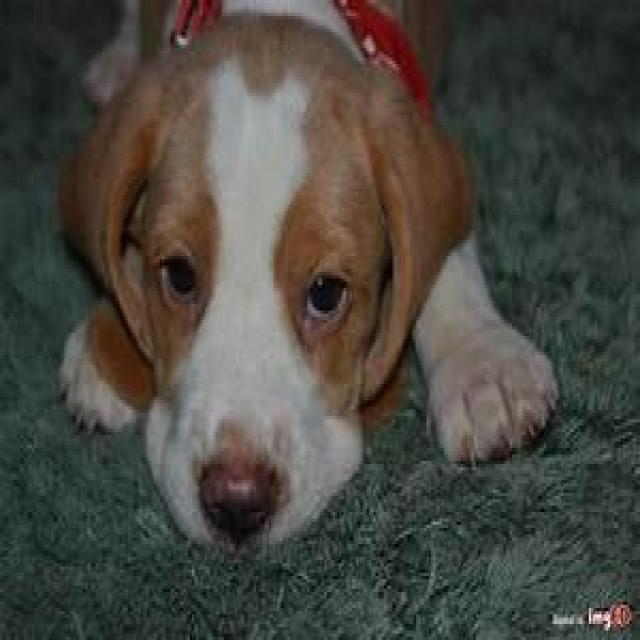dog: (60, 4, 558, 550)
